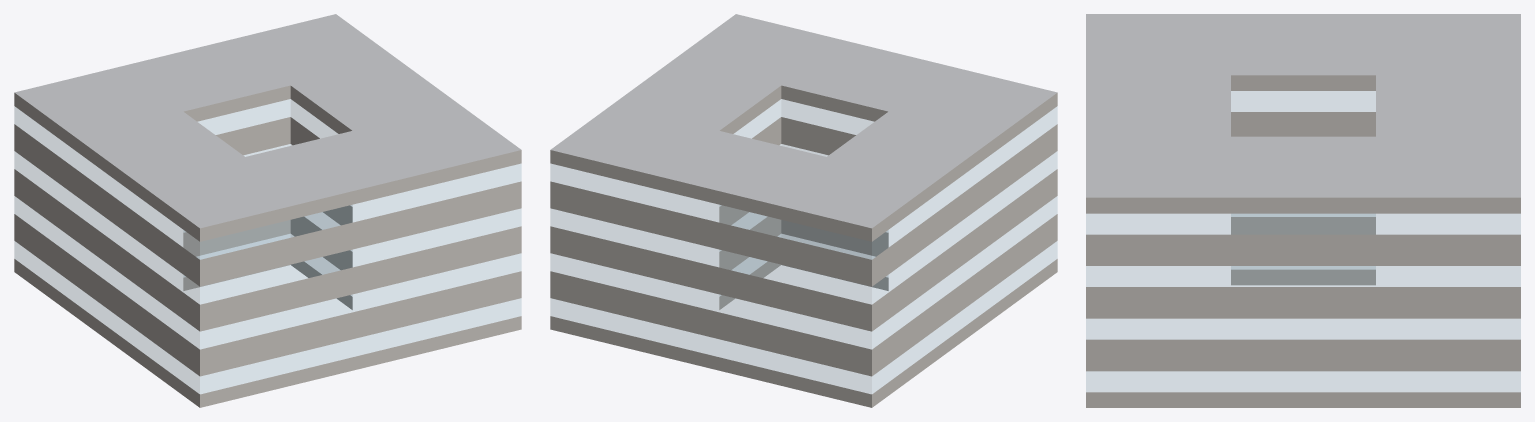
The picture shows the model from 3 angles, left to right: view 1: azimuth 30°, elevation 25°; view 2: azimuth 150°, elevation 25°; view 3: azimuth 270°, elevation 25°; orthographic projection. The views are drawn at different scales.
Parts seen in each view (by area): view 1: Dinding Bata, Atap Beton, Kaca Jendela; view 2: Dinding Bata, Atap Beton, Kaca Jendela; view 3: Atap Beton, Dinding Bata, Kaca Jendela.
Boxes of the visible parts, bbox=[...] form: Dinding Bata: bbox=[14, 85, 521, 407]; Atap Beton: bbox=[14, 14, 521, 228]; Kaca Jendela: bbox=[14, 99, 521, 393]; Dinding Bata: bbox=[550, 85, 1057, 407]; Atap Beton: bbox=[550, 14, 1057, 228]; Kaca Jendela: bbox=[550, 99, 1057, 393]; Atap Beton: bbox=[1086, 14, 1520, 197]; Dinding Bata: bbox=[1086, 75, 1520, 407]; Kaca Jendela: bbox=[1086, 91, 1520, 391].
Size of the model in its own units: 30 by 16 by 30.
